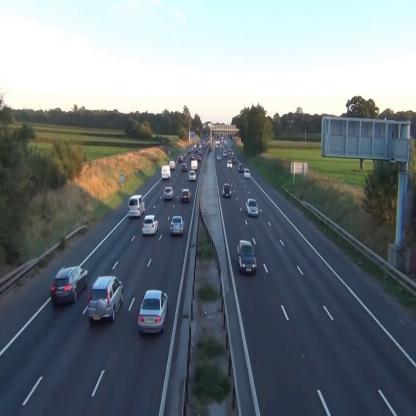car: (89, 276, 123, 324), (51, 266, 88, 308), (138, 288, 168, 335), (236, 239, 256, 274), (142, 214, 158, 235), (170, 216, 185, 236), (245, 199, 258, 216), (162, 186, 174, 200), (181, 189, 191, 203), (223, 183, 231, 198), (188, 170, 196, 181), (191, 160, 197, 170), (244, 170, 251, 178), (169, 161, 175, 169), (227, 160, 232, 168), (239, 164, 244, 172), (216, 154, 221, 160), (182, 164, 186, 171), (178, 155, 182, 162), (196, 156, 201, 161), (190, 154, 194, 160), (223, 150, 227, 156), (182, 153, 186, 157)
lorry: (128, 194, 144, 217), (161, 166, 171, 180)
